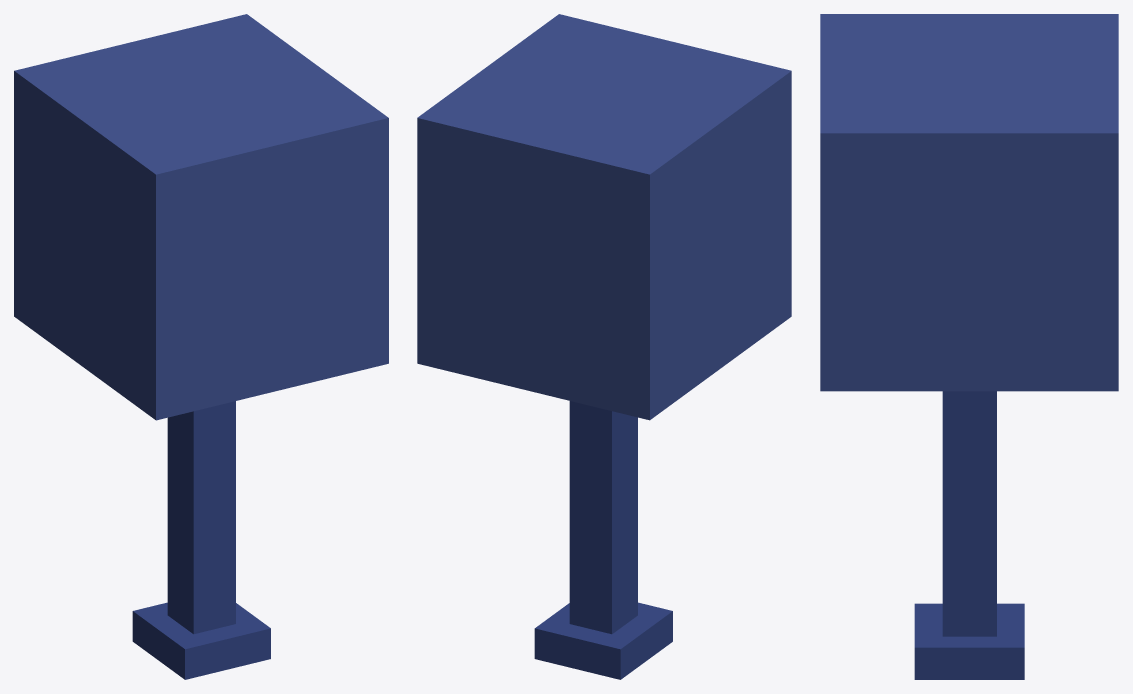
The model's file is SM_Prop_Tree_Square_01.fbx.
3 renders of one model, left to right at view 1: azimuth 30°, elevation 25°; view 2: azimuth 150°, elevation 25°; view 3: azimuth 270°, elevation 25°, orthographic. The views are drawn at different scales.
Parts seen in each view (by area): view 1: SM_Prop_Tree_Square_01; view 2: SM_Prop_Tree_Square_01; view 3: SM_Prop_Tree_Square_01.
Boxes of the visible parts, x1,y1,x2,y2 form: SM_Prop_Tree_Square_01: [14, 14, 388, 679]; SM_Prop_Tree_Square_01: [417, 14, 791, 679]; SM_Prop_Tree_Square_01: [820, 14, 1118, 679].
Size of the model in its own units: 102 by 233 by 108.
